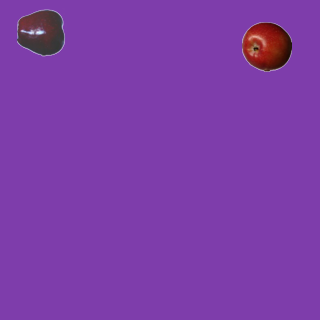Apple Braeburn: (241, 21, 291, 71)
Apple Red Delicious: (16, 7, 66, 57)
